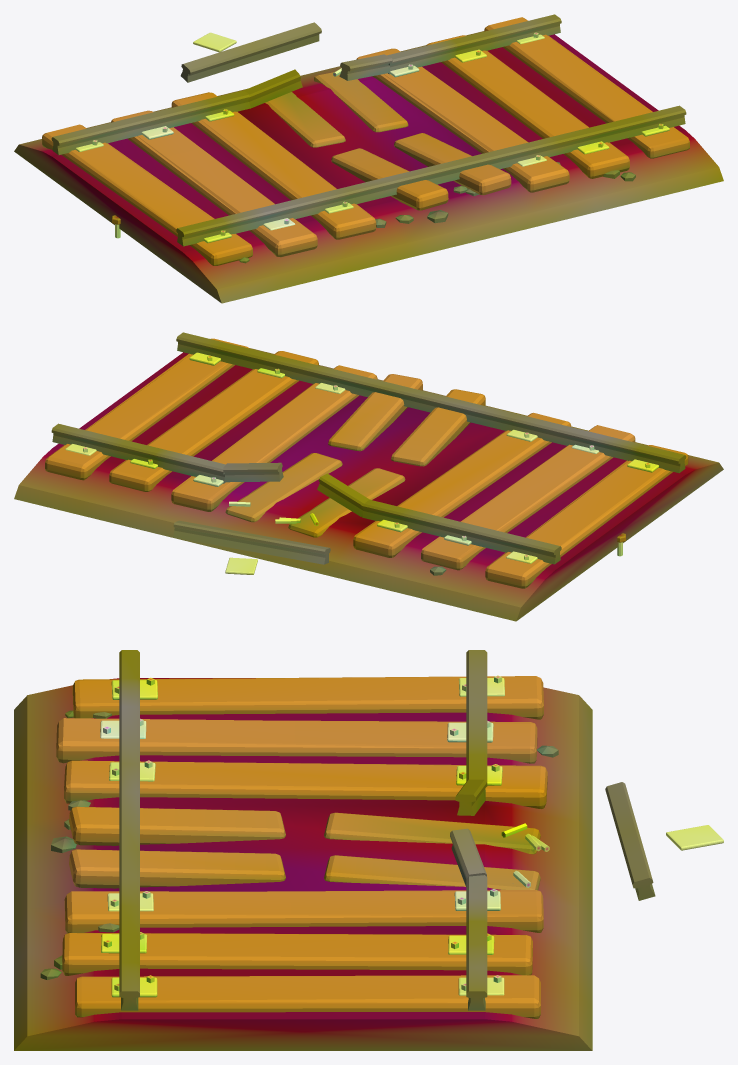
File: Track_Broken_6m.fbx
The picture shows the model from 3 angles, top to bottom: view 1: azimuth 30°, elevation 25°; view 2: azimuth 150°, elevation 25°; view 3: azimuth 270°, elevation 25°; orthographic projection. The views are drawn at different scales.
Parts seen in each view (by area): view 1: Track_Broken_6m, Broken_Bits; view 2: Track_Broken_6m, Broken_Bits; view 3: Track_Broken_6m, Broken_Bits.
Part boxes in pixels (x1,y1,x2,y2): Track_Broken_6m: (14,14,723,303); Broken_Bits: (180,22,511,210); Track_Broken_6m: (14,332,723,621); Broken_Bits: (173,374,485,574); Track_Broken_6m: (14,650,592,1050); Broken_Bits: (69,779,723,900).
Bounding box in the file's own units: 6.07 × 0.7403 × 5.28.
